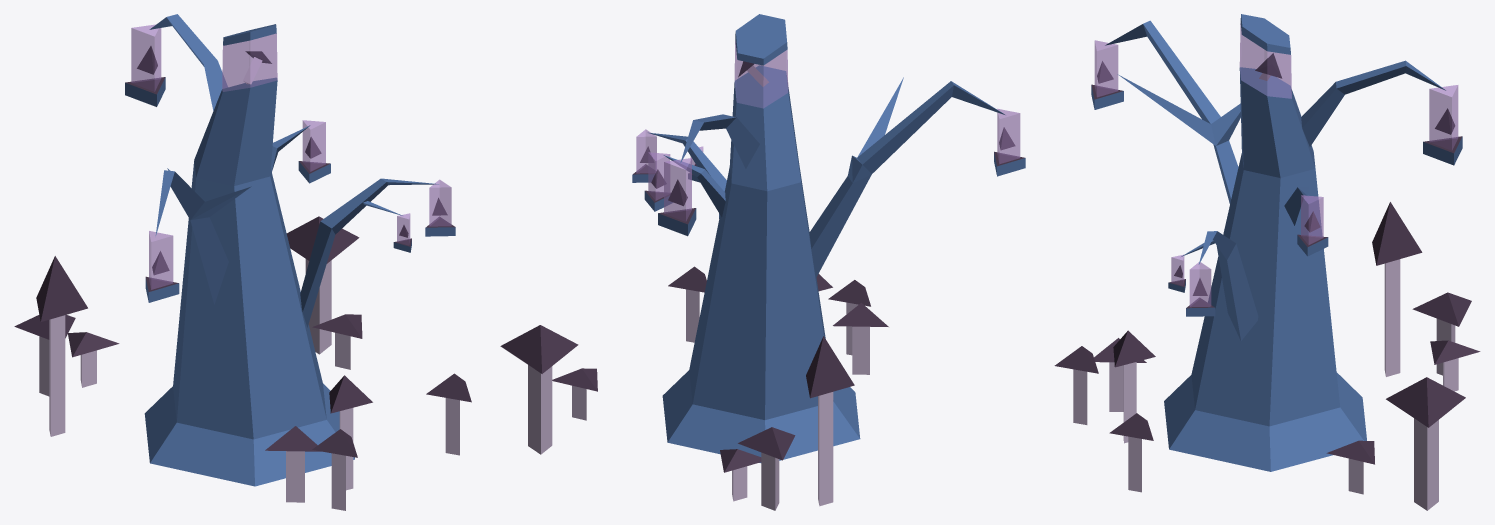
File: Pests-SporePlant.fbx
3 renders of one model, left to right at view 1: azimuth 30°, elevation 25°; view 2: azimuth 150°, elevation 25°; view 3: azimuth 270°, elevation 25°, orthographic. The views are drawn at different scales.
Visible parts, largest first — view 1: Pests-SporePlant; view 2: Pests-SporePlant; view 3: Pests-SporePlant.
Part boxes in pixels (left/top/right/bottom): Pests-SporePlant: left=14, top=14, right=471, bottom=510; Pests-SporePlant: left=500, top=14, right=1025, bottom=510; Pests-SporePlant: left=1054, top=14, right=1480, bottom=510.
Size of the model in its own units: 0.8982 by 0.89 by 0.956.
